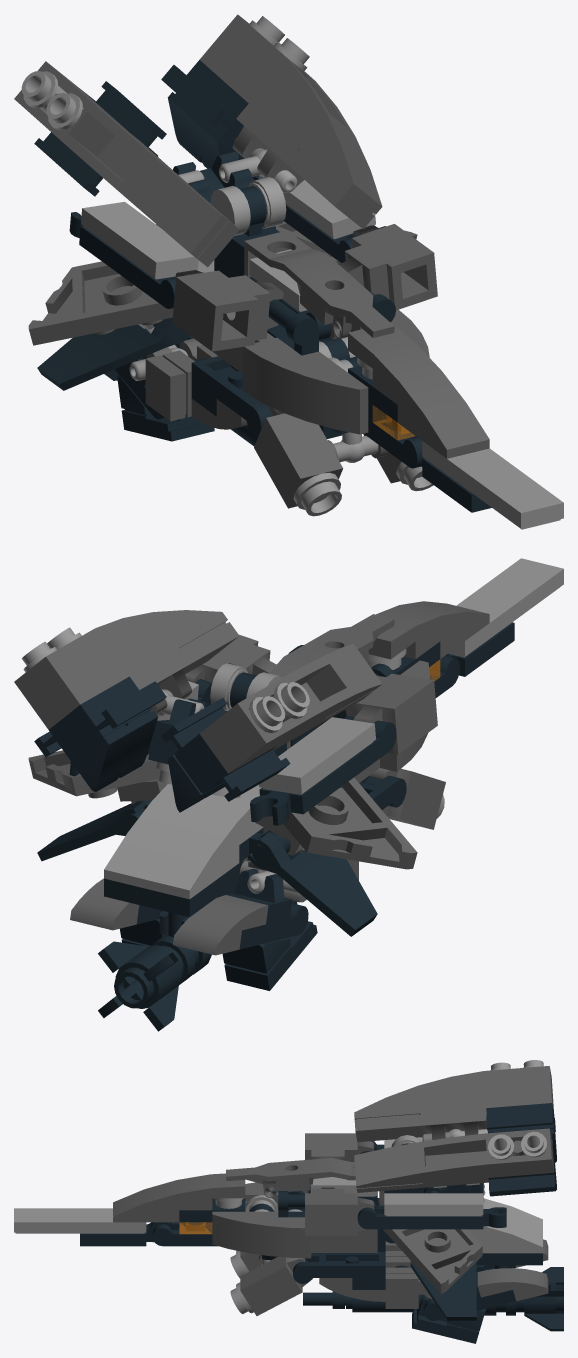
File: mvf-04h.dae
3 views of the same model, one above another, from view 1: azimuth 30°, elevation 25°; view 2: azimuth 150°, elevation 25°; view 3: azimuth 270°, elevation 25° (orthographic). The views are drawn at different scales.
Size of the model in its own units: 182 by 333 by 151.
